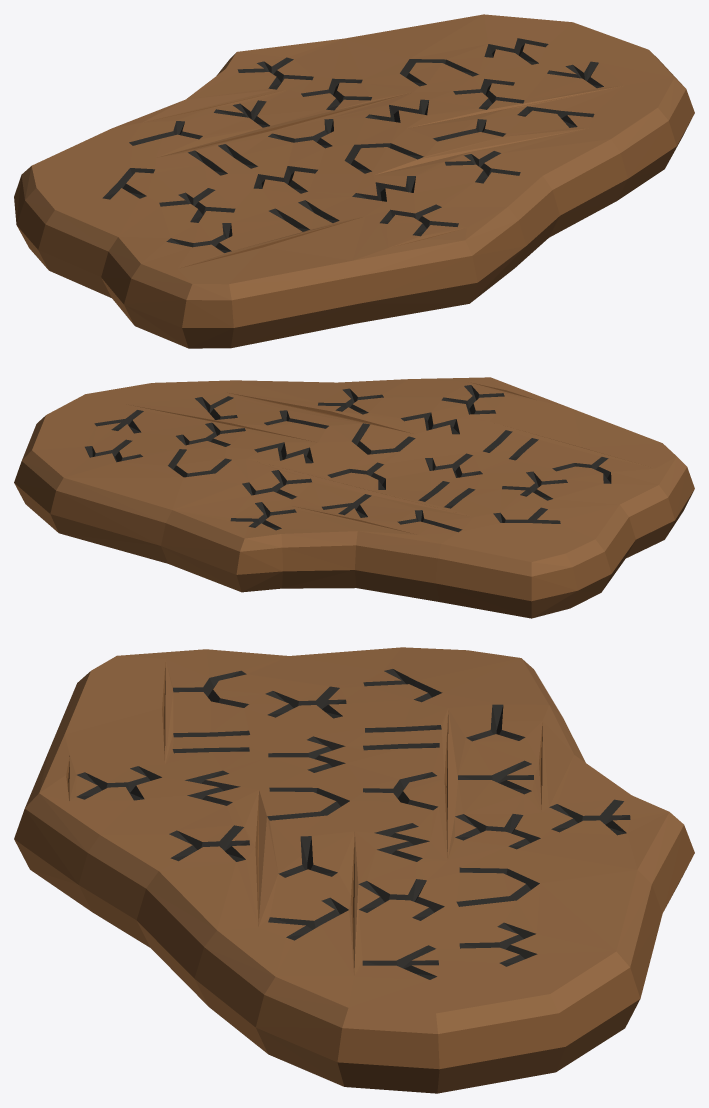
File: rongorongo-tablet-c90348.glb
3 views of the same model, one above another, from view 1: azimuth 30°, elevation 25°; view 2: azimuth 150°, elevation 25°; view 3: azimuth 270°, elevation 25° (orthographic). The views are drawn at different scales.
Parts seen in each view (by area): view 1: tablet-body; view 2: tablet-body; view 3: tablet-body.
Boxes of the visible parts, <box> form: tablet-body: <box>14,14,694,348</box>; tablet-body: <box>14,377,694,618</box>; tablet-body: <box>14,647,694,1093</box>.
Size of the model in its own units: 0.4 by 0.0441 by 0.295.
